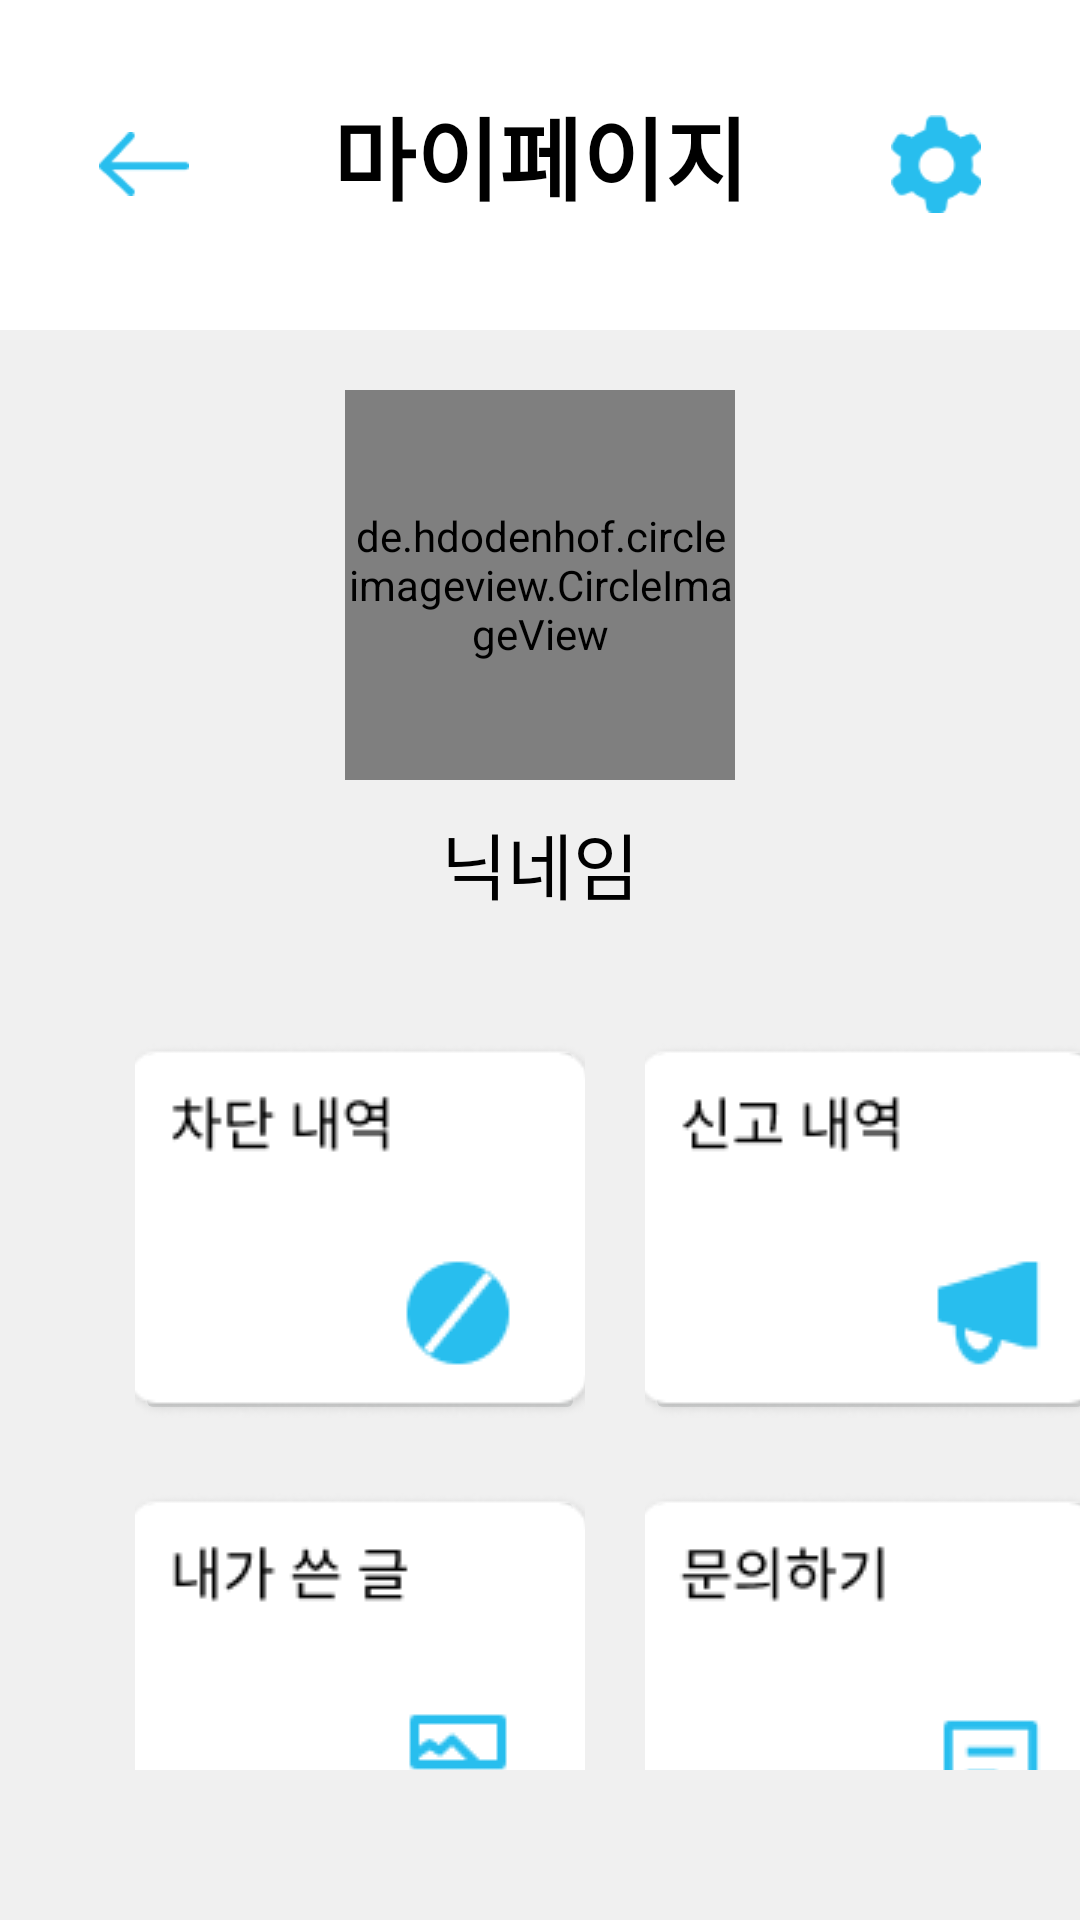

Named icons in this screenshot (1080px x 1920px) and their bounding boxes, (x1, y1, x2, y2):
backbtn: (99, 132, 189, 196)
